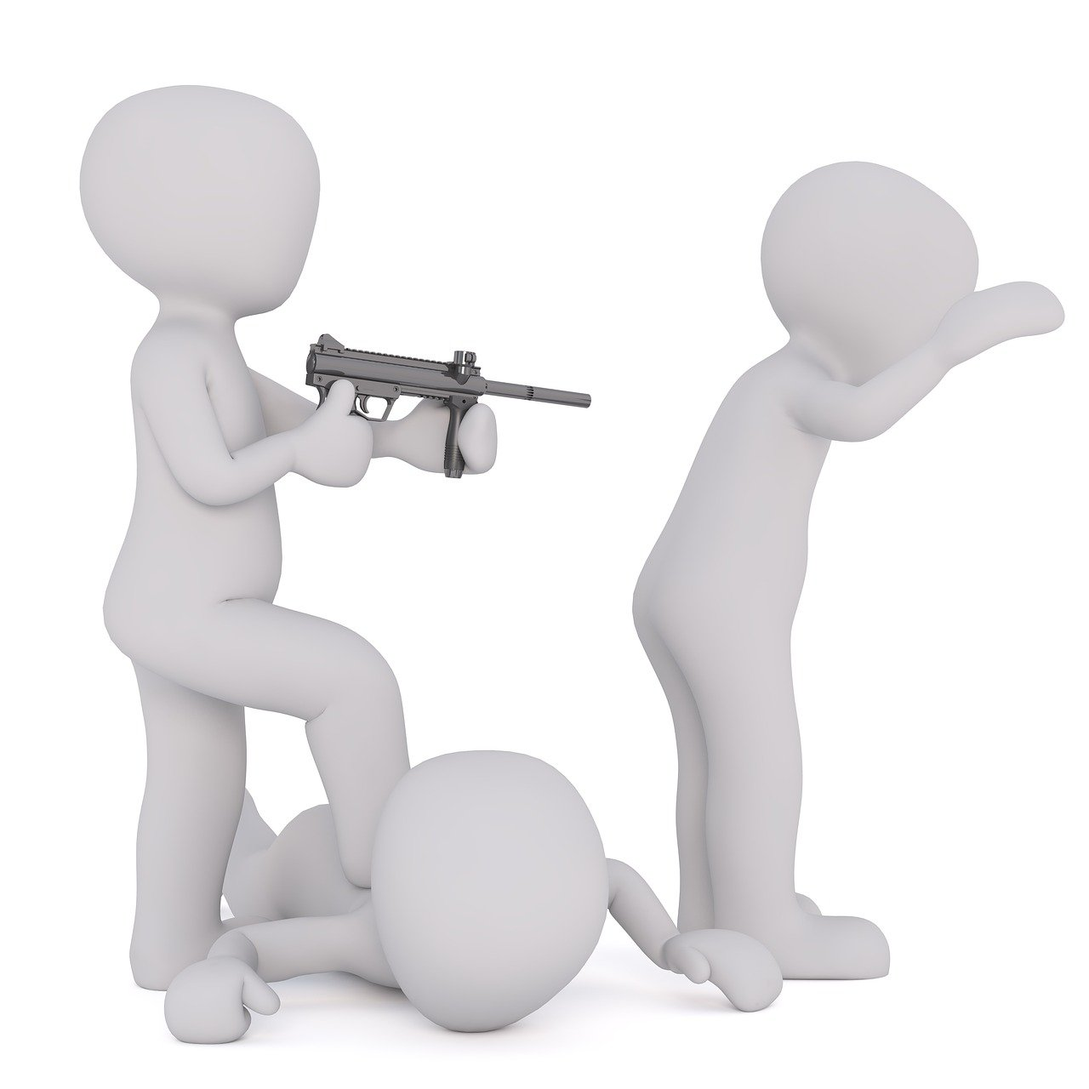gun_036.jpg: (297, 321, 607, 495)
